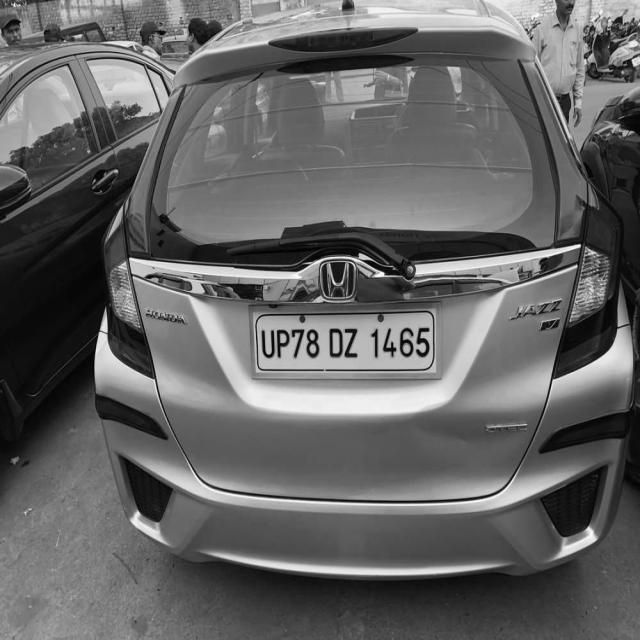car: (91, 0, 640, 559)
license-plate: (258, 312, 435, 371)
